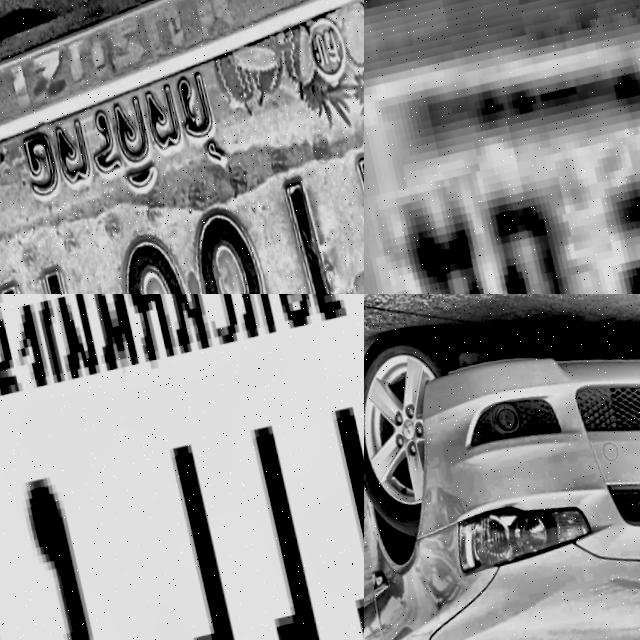license-plate: (0, 294, 364, 640), (0, 0, 364, 294), (364, 0, 640, 294)
